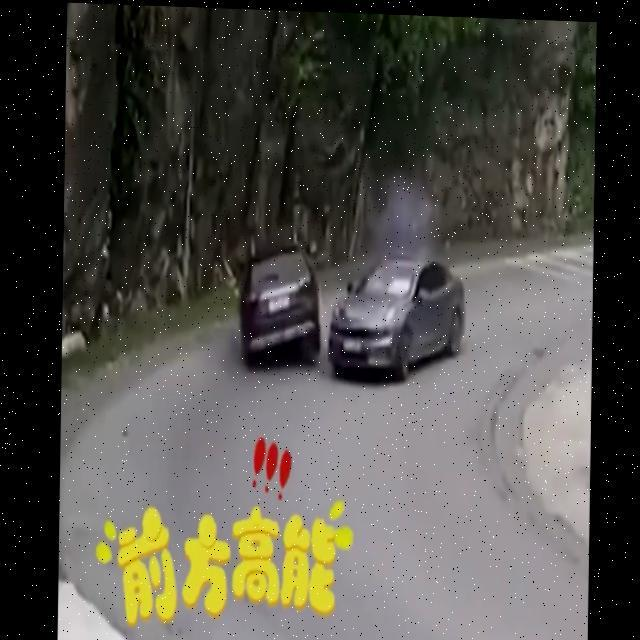multiple_accident: (200, 195, 522, 417)
